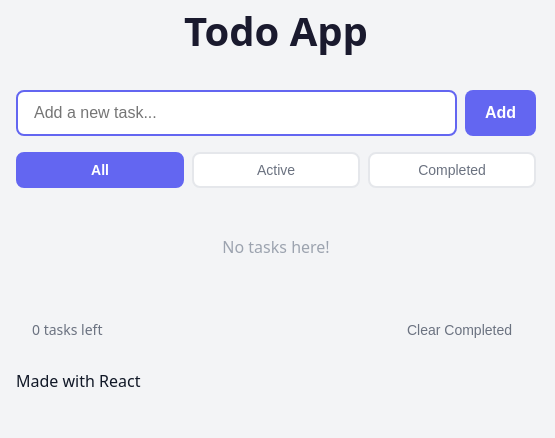
Test: Todo App › filters active todos
In the field with placeholder "Add a new task...": (236,113) [16,90,457,136], type "Task 1"
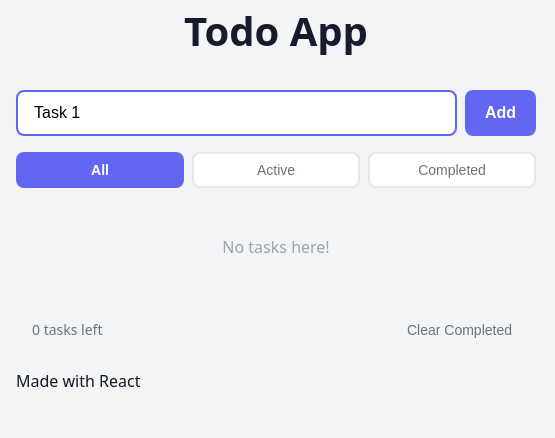
Click the button "Add": (500,113) [465,90,536,136]
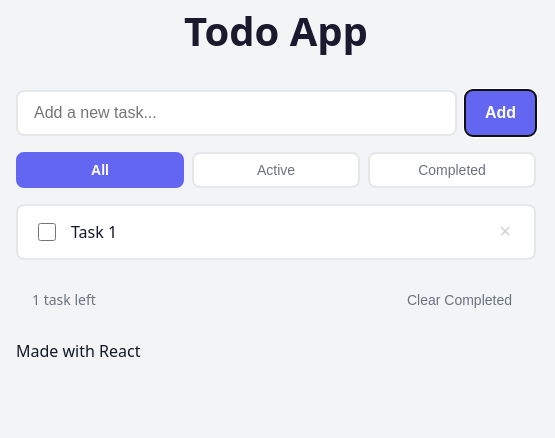
In the field with placeholder "Add a new task...": (236,113) [16,90,457,136], type "Task 2"
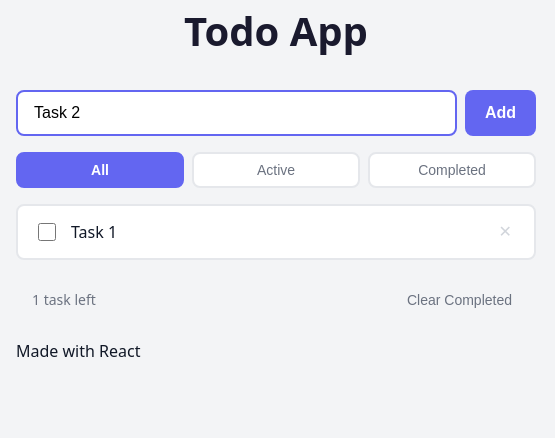
Click the button "Add": (500,113) [465,90,536,136]
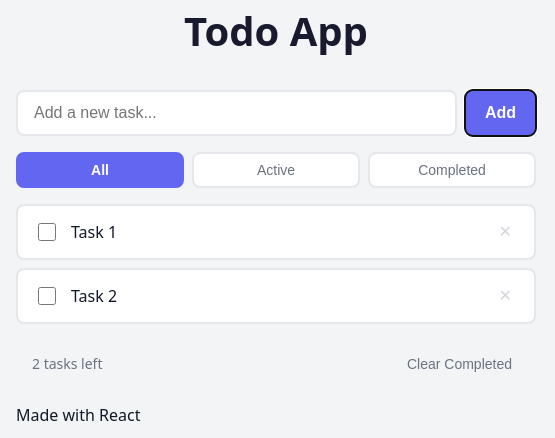
Complete Task 1
Click the checkbox next to "Task 1": (47,232) [38,223,56,241]
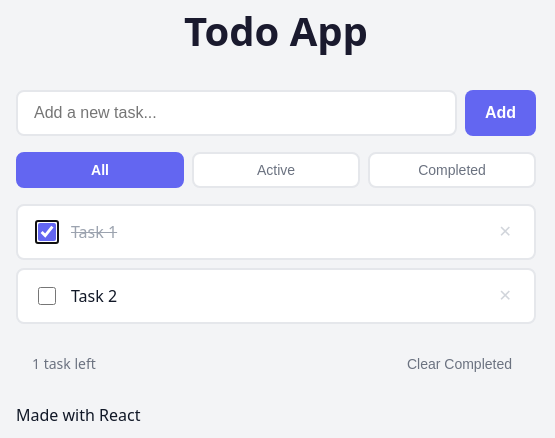
Filter active
Click the button "Active": (276,170) [192,152,360,188]
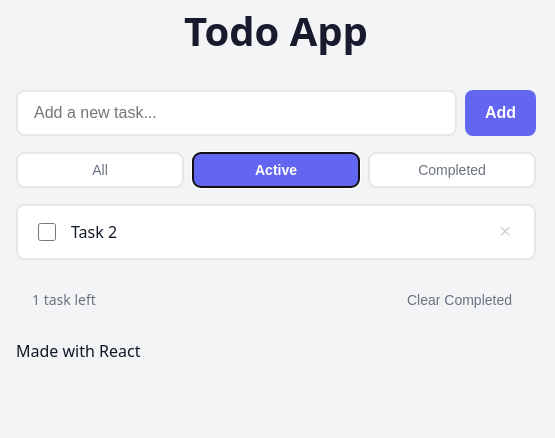
Now the text "Task 2" is shown, box [71,221,117,243]
Now the text "Task 1" is gone
